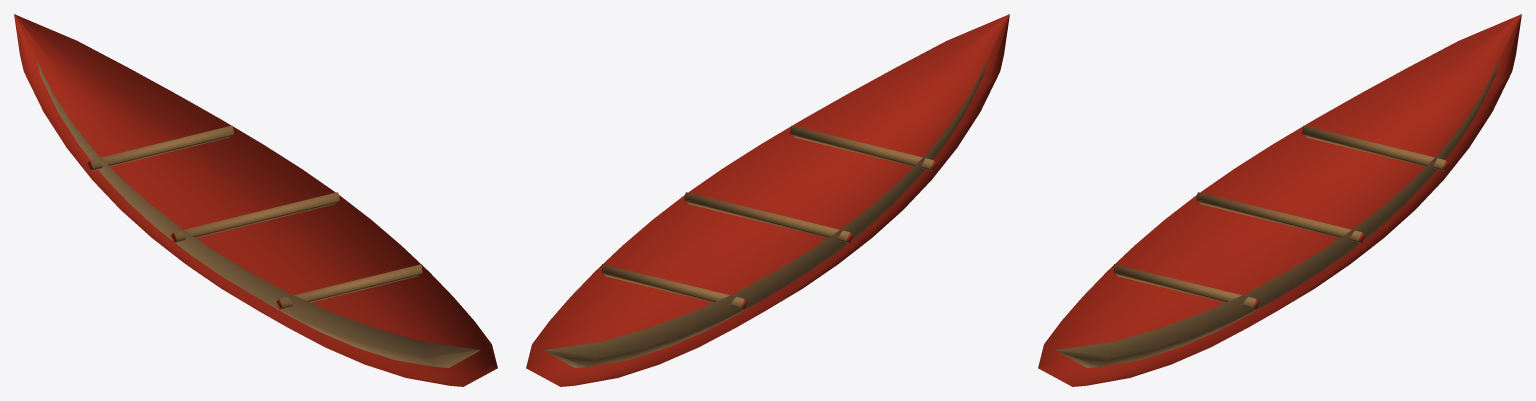
Rendered from n-canoe.glb.
3 views of the same model, side by side, from view 1: azimuth 30°, elevation 25°; view 2: azimuth 150°, elevation 25°; view 3: azimuth 330°, elevation 25° (orthographic).
Parts seen in each view (by area): view 1: canoe; view 2: canoe; view 3: canoe.
Boxes of the visible parts, box(x1,y1,x2,y2) form: canoe: box(14, 14, 497, 386); canoe: box(526, 14, 1009, 386); canoe: box(1038, 14, 1521, 386).
Bounding box in the file's own units: 0.9 × 0.49 × 4.6.
